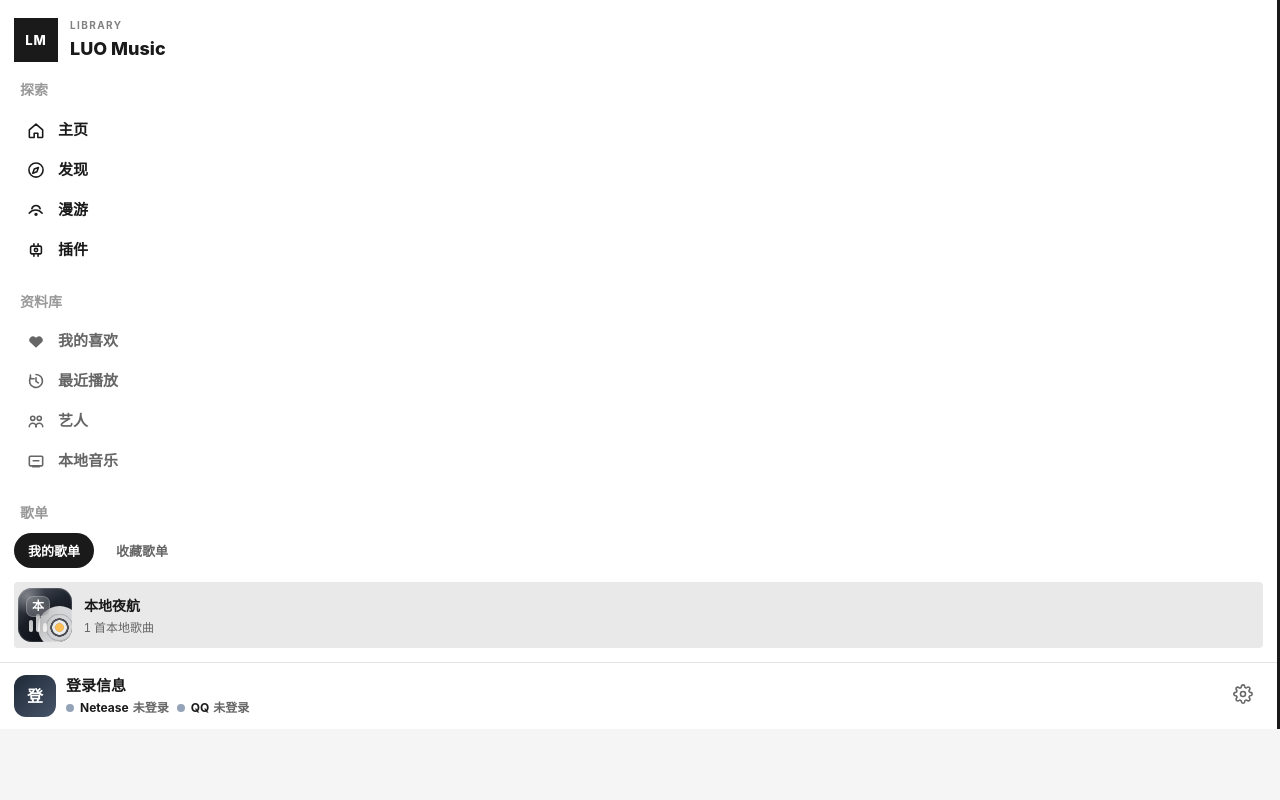
Test case: HomeSidebar › deletes a local playlist from the sidebar context menu
Right-click the button "本 本地夜航 1 首本地歌曲" at (45, 615), box [14,582,1263,648]
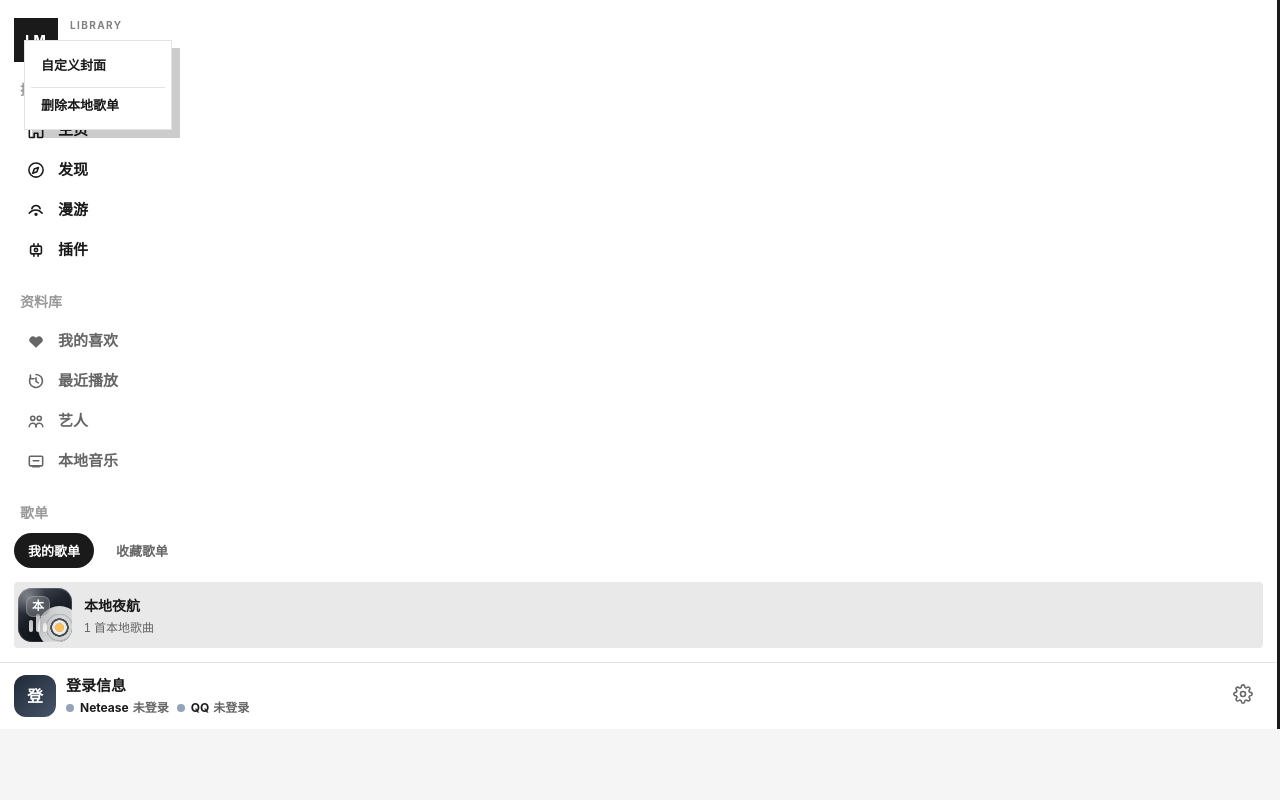
Now the menu is shown, box [24,40,172,130]
Now the text "删除本地歌单" is shown
Click the menu item "删除本地歌单" at (98, 105), box [31,87,165,123]
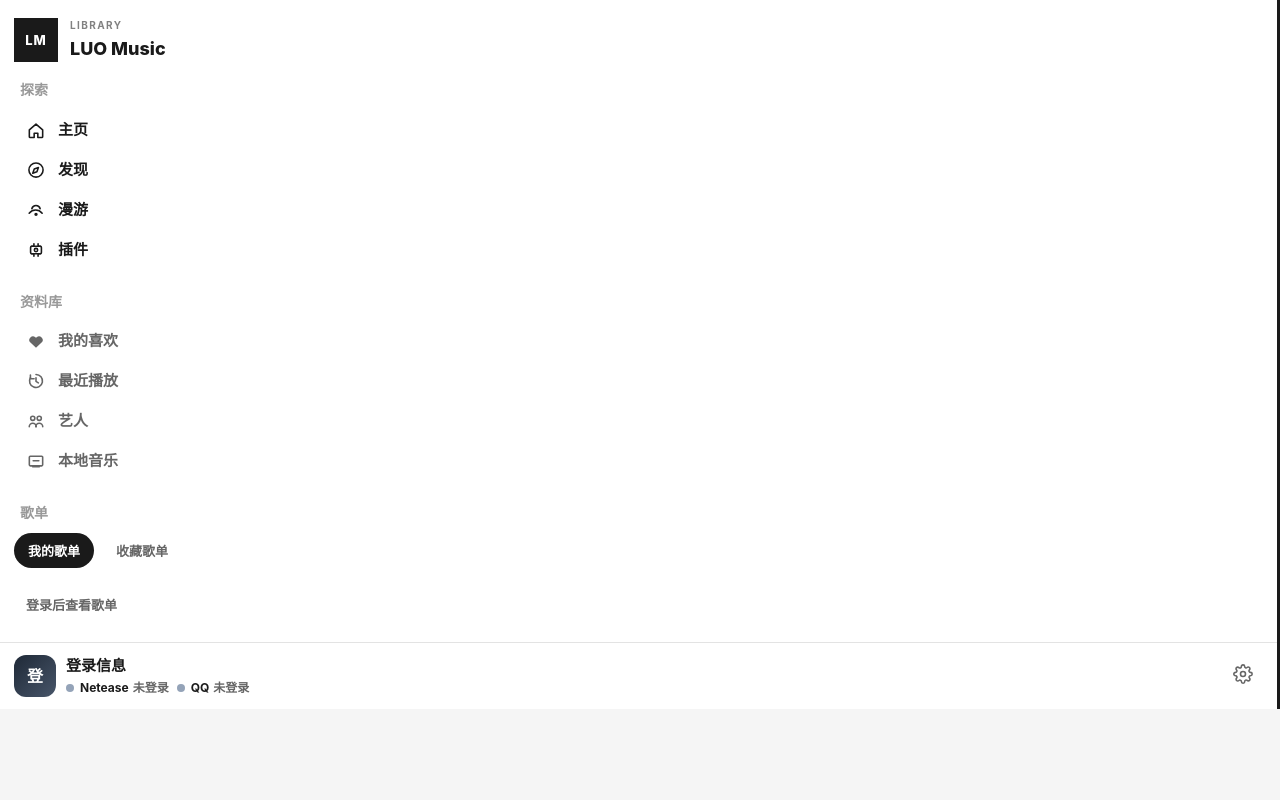
Now the text "本地夜航" is gone
